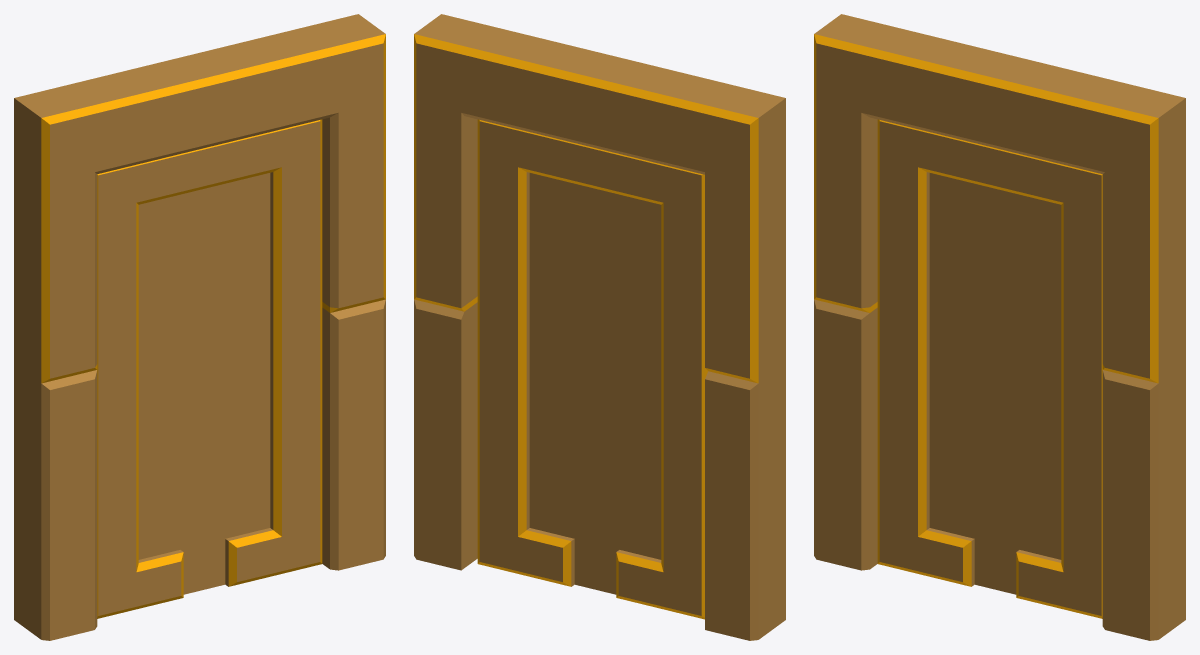
The model's file is door.fbx.
3 views of the same model, side by side, from view 1: azimuth 30°, elevation 25°; view 2: azimuth 150°, elevation 25°; view 3: azimuth 330°, elevation 25° (orthographic).
Parts seen in each view (by area): view 1: UpperDoorFrame, Door, Inlay, LowerDoorFrame; view 2: UpperDoorFrame, Door, Inlay, LowerDoorFrame; view 3: UpperDoorFrame, Door, Inlay, LowerDoorFrame.
Boxes of the visible parts, x1,y1,x2,y2 form: UpperDoorFrame: (14,14,385,383); Door: (97,119,322,618); Inlay: (138,173,270,594); LowerDoorFrame: (14,299,385,640); UpperDoorFrame: (414,14,785,383); Door: (477,119,707,619); Inlay: (529,173,661,594); LowerDoorFrame: (414,299,785,640); UpperDoorFrame: (814,14,1185,383); Door: (877,119,1102,618); Inlay: (929,173,1061,594); LowerDoorFrame: (814,299,1185,640).
Bounding box in the file's own units: 72.28 × 105 × 12.23.
